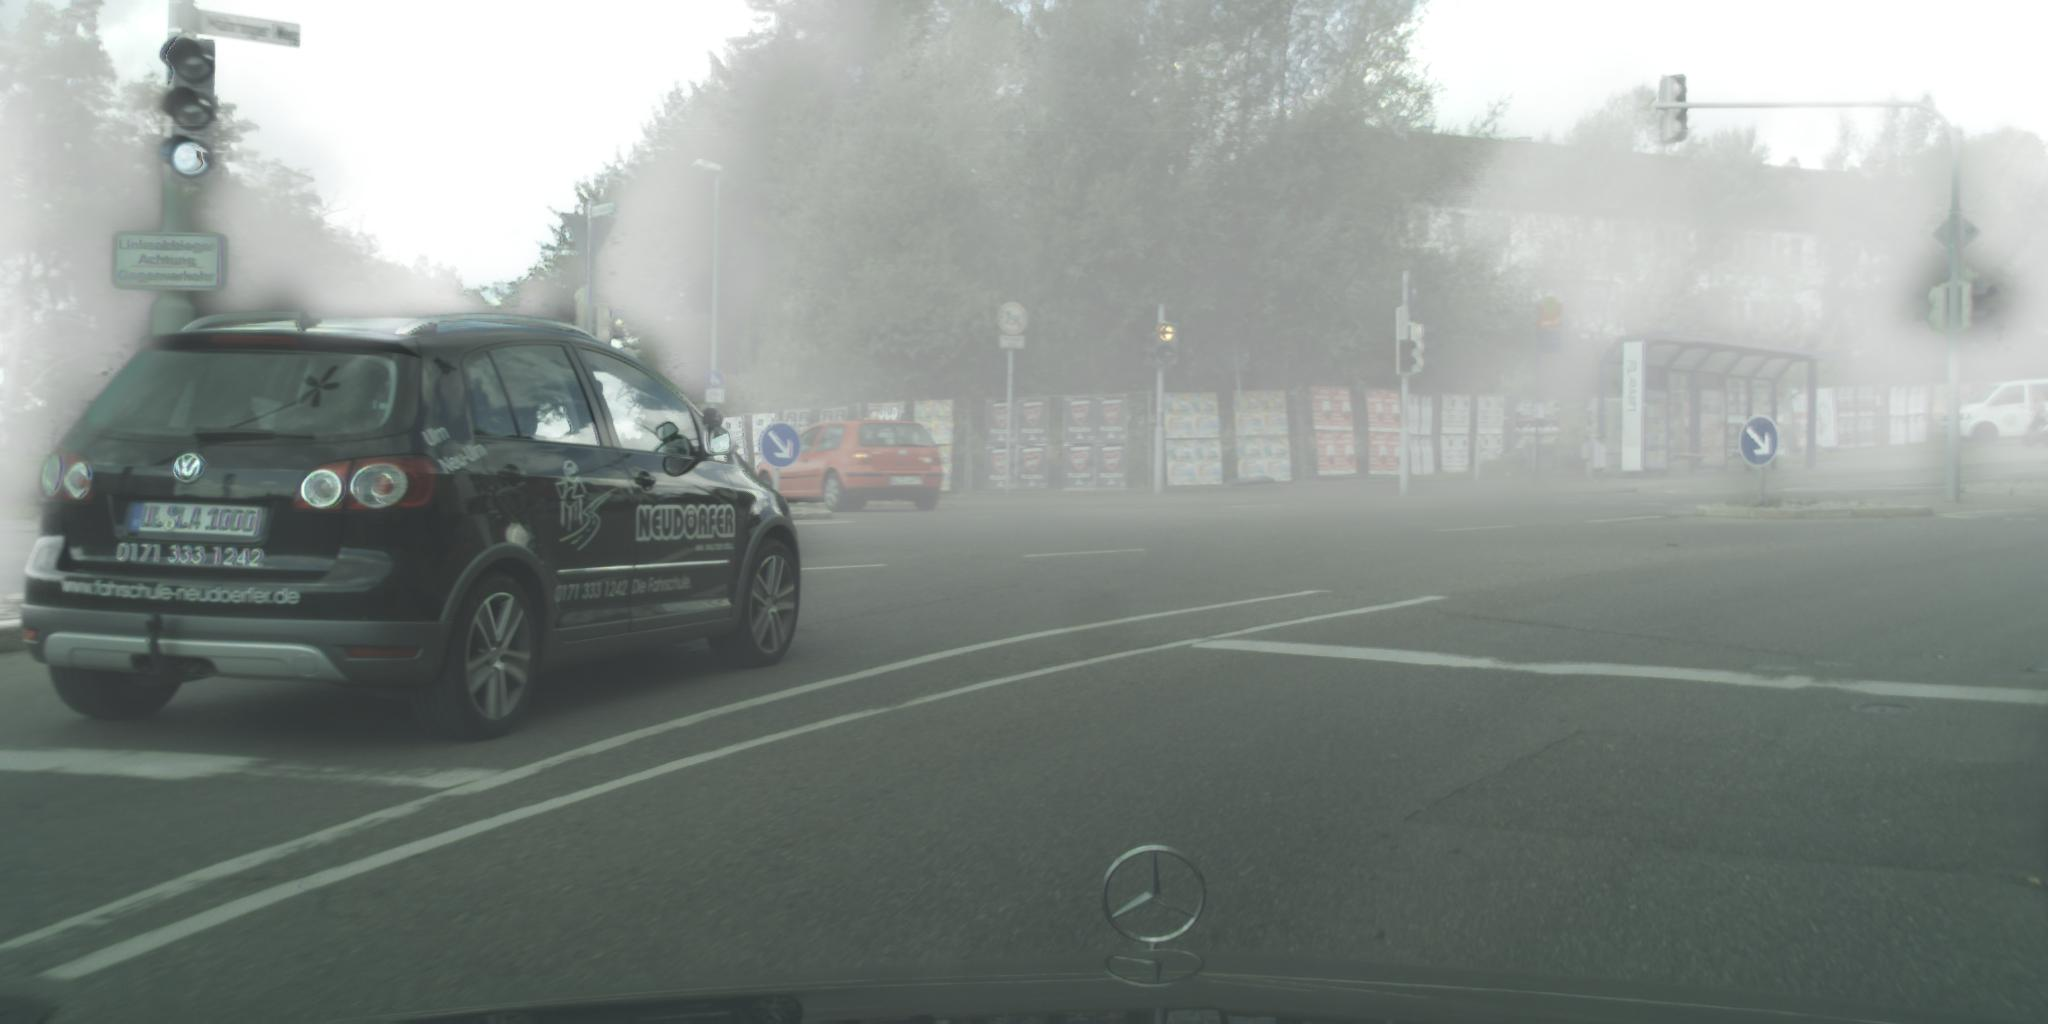car: (22, 311, 801, 742), (754, 421, 944, 513), (1940, 379, 2047, 445)
motorcycle: (2023, 405, 2047, 449)
